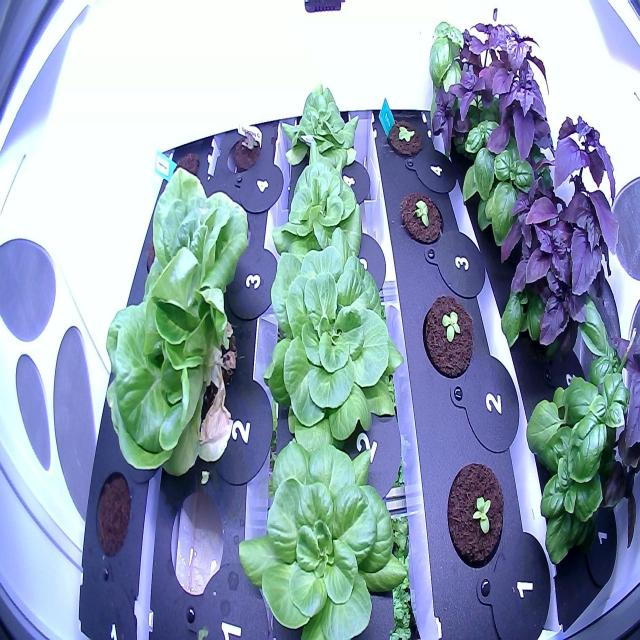empty_pod: (158, 474, 232, 605)
germination: (222, 122, 266, 180)
pod: (86, 462, 136, 562), (162, 136, 205, 200)
young: (86, 161, 260, 488), (234, 426, 411, 640), (255, 230, 406, 449), (269, 150, 371, 270), (275, 74, 368, 186), (440, 448, 509, 576), (415, 289, 480, 392), (395, 176, 450, 255), (382, 109, 427, 163)
